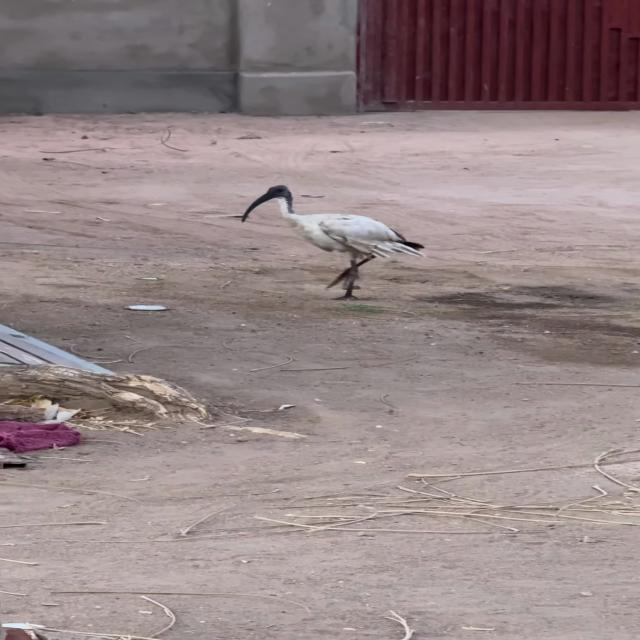Birds-Ibis: (237, 180, 430, 304)
